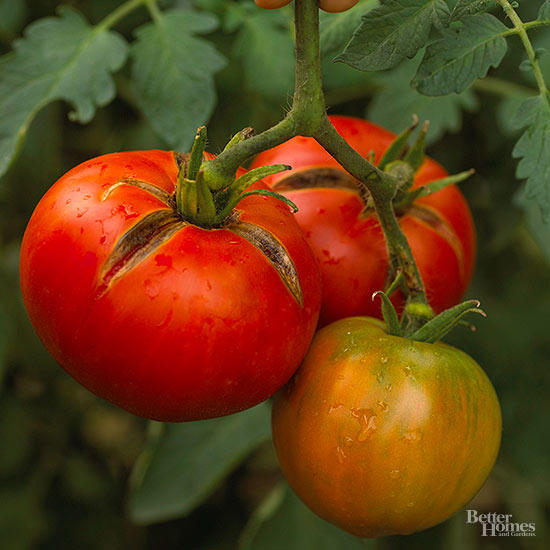stems: (196, 112, 291, 222), (372, 195, 435, 339), (385, 160, 412, 217)
tomato: (20, 150, 322, 422), (271, 315, 502, 536), (249, 113, 478, 319)
